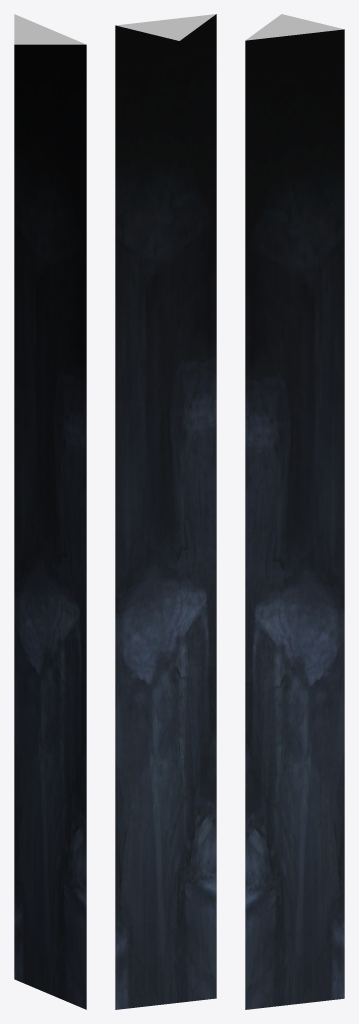
File: mine_fade_convex_01.fbx
The picture shows the model from 3 angles, left to right: view 1: azimuth 90°, elevation 25°; view 2: azimuth 150°, elevation 25°; view 3: azimuth 330°, elevation 25°; orthographic projection.
Parts seen in each view (by area): view 1: obj1.022; view 2: obj1.022; view 3: obj1.022.
Part boxes in pixels (box(x1,y1,x2,y2)): obj1.022: box(14, 14, 86, 1009); obj1.022: box(115, 14, 216, 1009); obj1.022: box(245, 14, 344, 1009).
Bounding box in the file's own units: 0.375 × 5.5 × 0.375.
